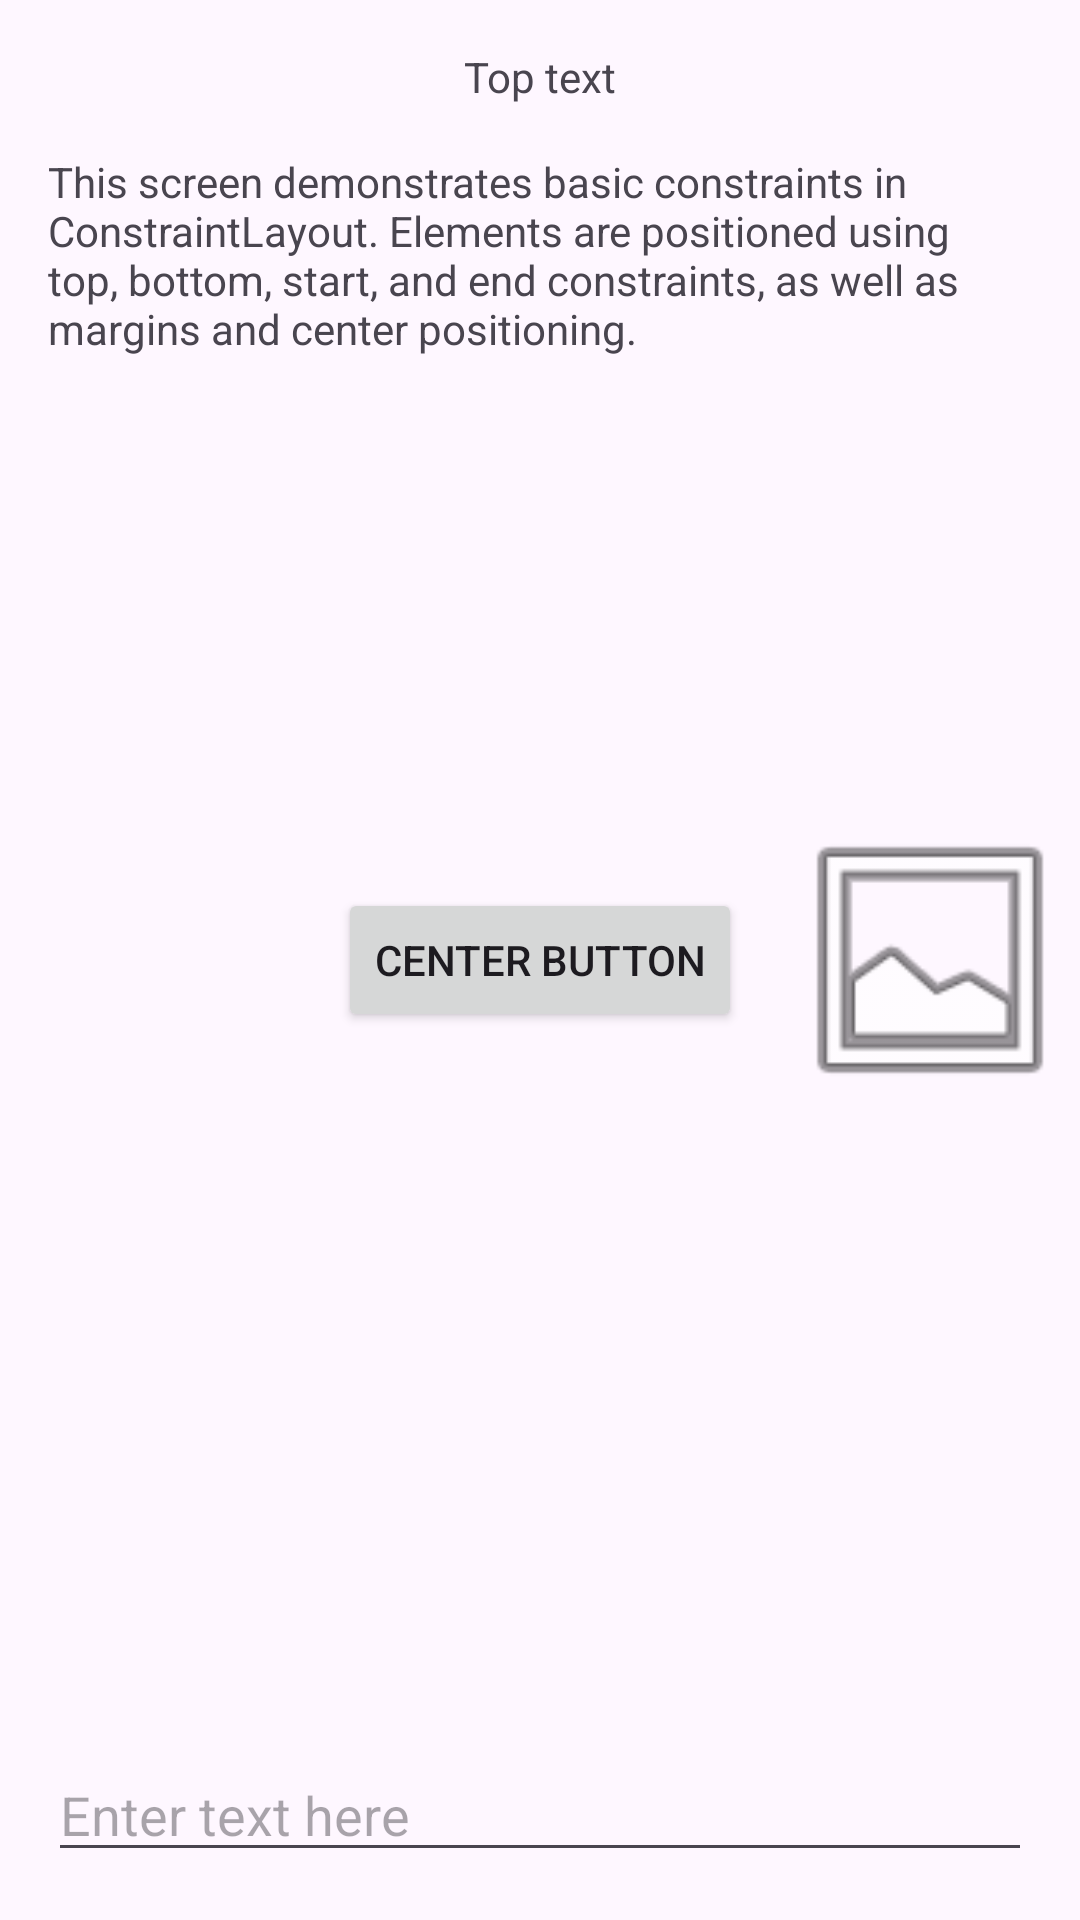

Icons on this 1080 x 1920 Android screen, each with the point to tap as (x=x, y=y):
gallery: (x=930, y=960)
